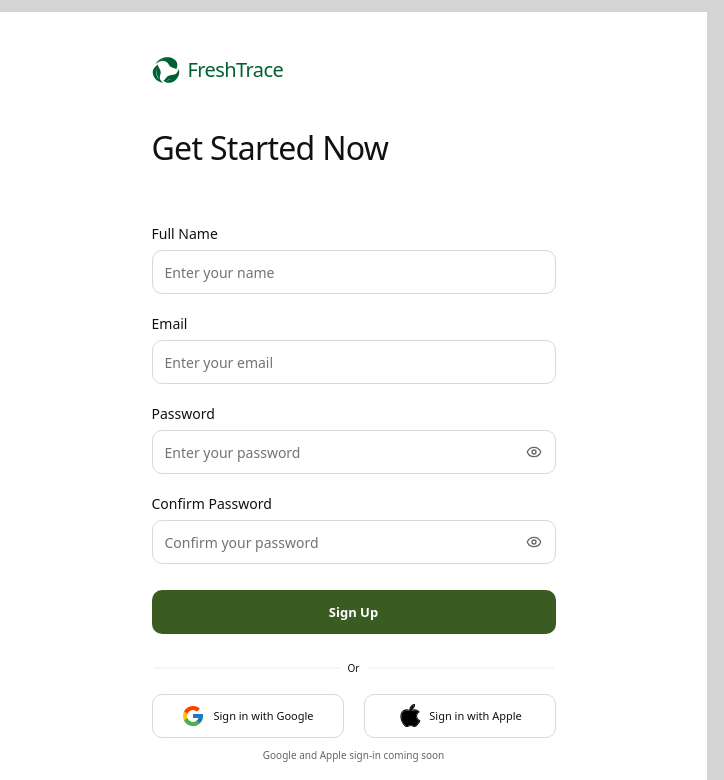
signup confirmation and login › does not display raw thrown errors
Type "Test User" into the field labelled "Full Name" at (354, 272), box [152, 250, 556, 294]
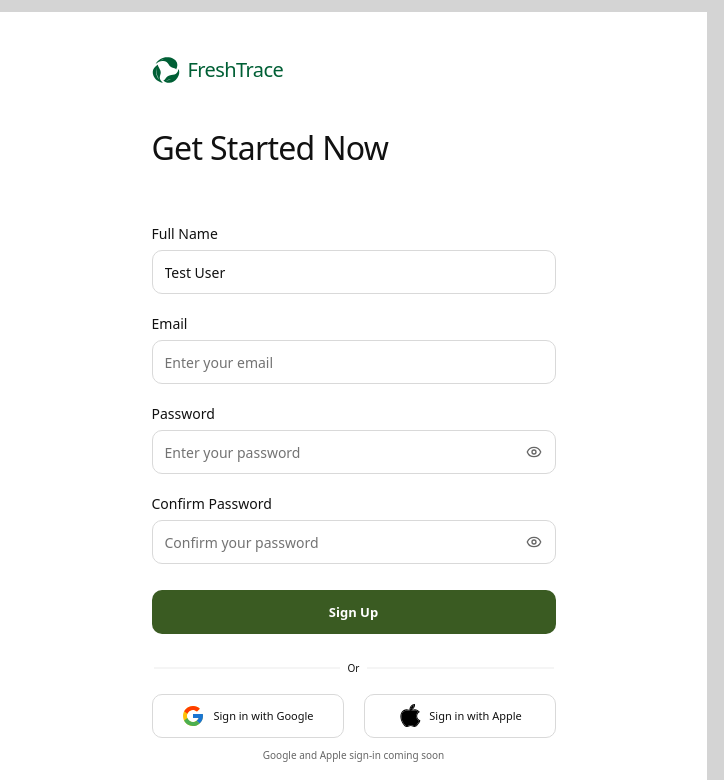
Type "test@example.com" into the field labelled "Email" at (354, 362), box [152, 340, 556, 384]
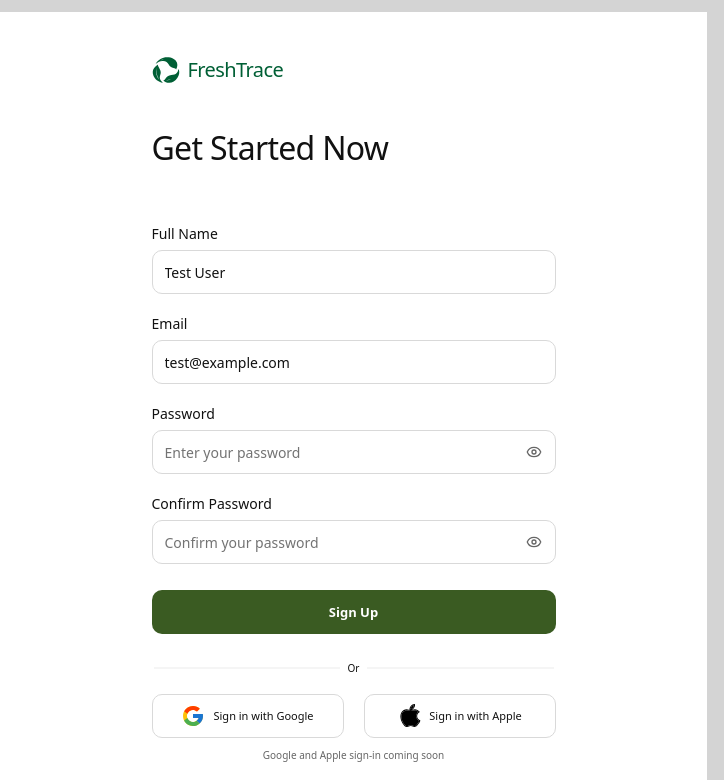
Type "fake-password" into the password field labelled "Password" at (354, 452), box [152, 430, 556, 474]
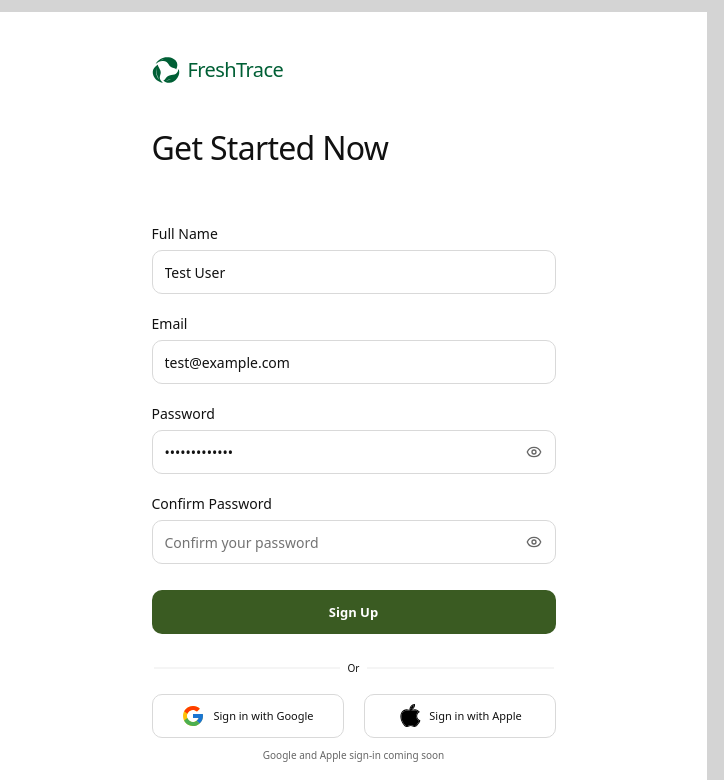
Type "fake-password" into the password field labelled "Confirm Password" at (354, 542), box [152, 520, 556, 564]
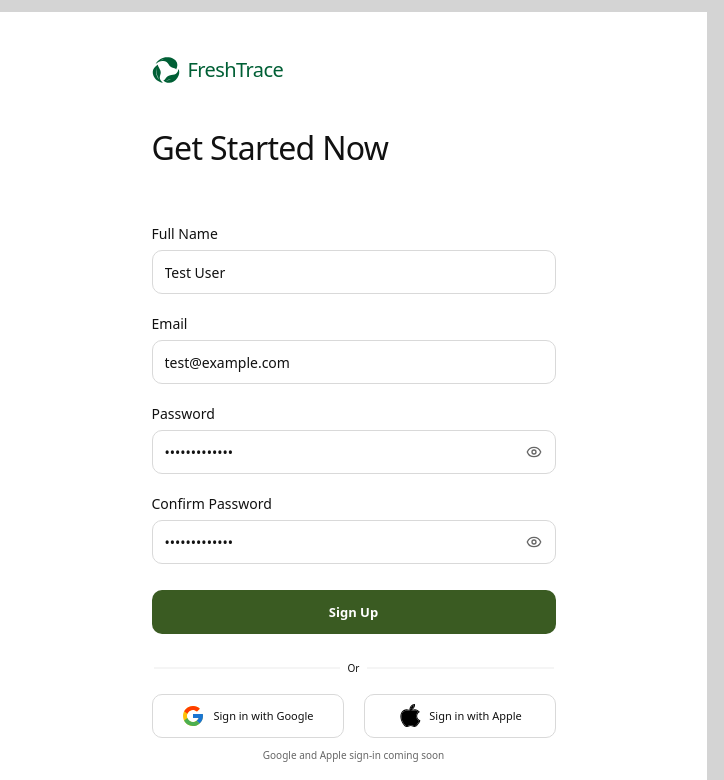
Submit the form named "Create an account", box [152, 224, 556, 634]
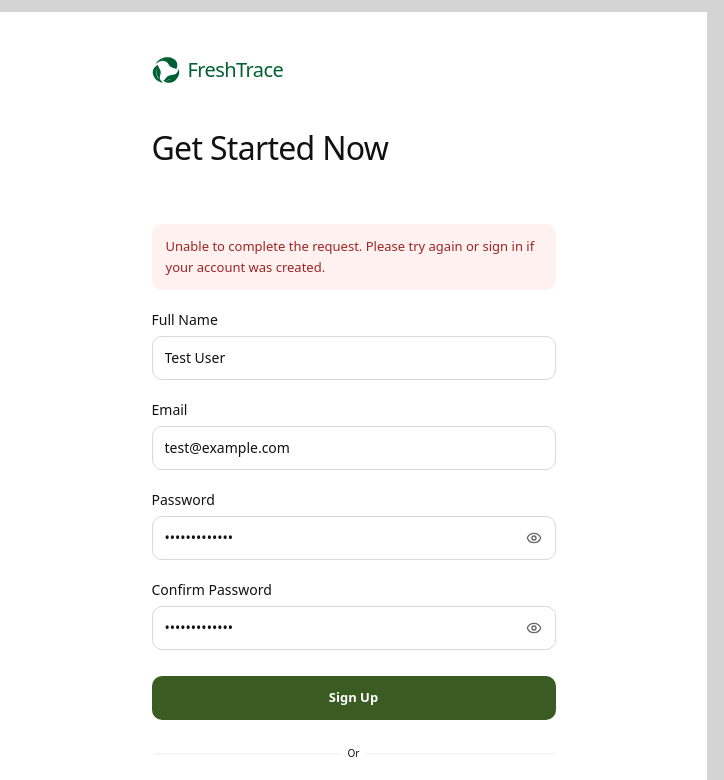
Expected: the message shows "Unable to complete the request", [166, 237, 534, 276]
